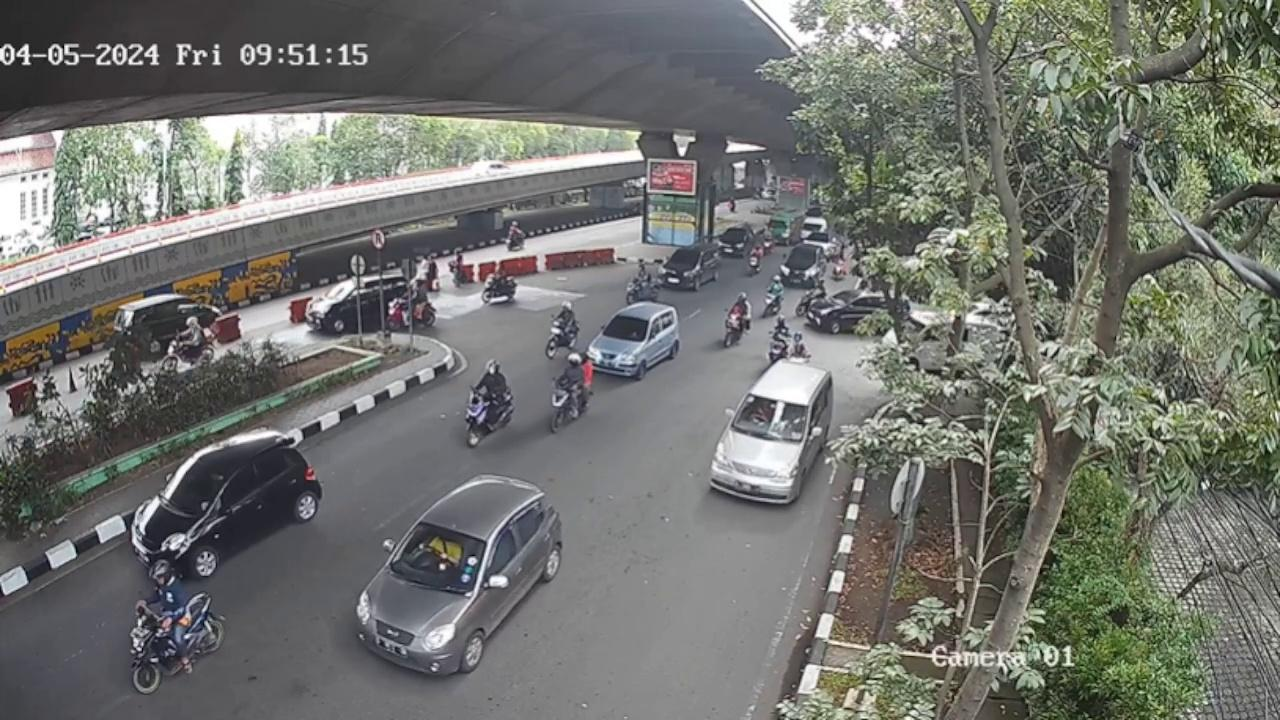pakai: (426, 535, 462, 577)
windshield: (391, 522, 486, 598), (737, 385, 812, 446), (162, 459, 232, 513), (601, 318, 647, 342)
